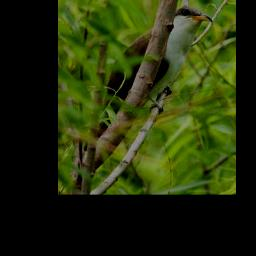Cuckoo: (74, 5, 218, 151)
